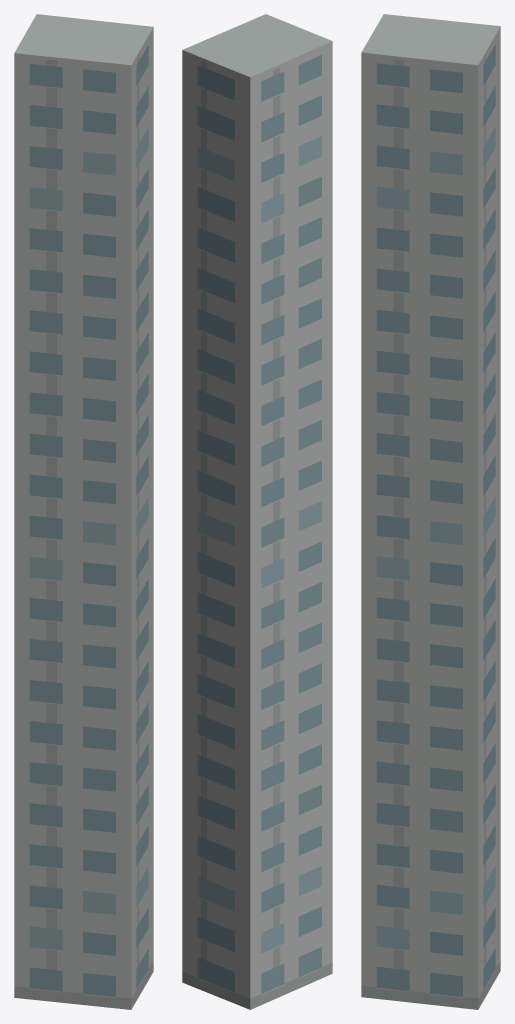
File: survey-upis-32955239.glb
3 views of the same model, side by side, from view 1: azimuth 90°, elevation 25°; view 2: azimuth 150°, elevation 25°; view 3: azimuth 270°, elevation 25° (orthographic).
Visible parts, largest first — view 1: survey-upis-32955239.tmp; view 2: survey-upis-32955239.tmp; view 3: survey-upis-32955239.tmp.
Part boxes in pixels (x1=…): survey-upis-32955239.tmp: x1=14, y1=14, x2=153, y2=1009; survey-upis-32955239.tmp: x1=182, y1=14, x2=332, y2=1009; survey-upis-32955239.tmp: x1=361, y1=14, x2=500, y2=1009.
Size of the model in its own units: 8.17 by 70.15 by 9.39.
